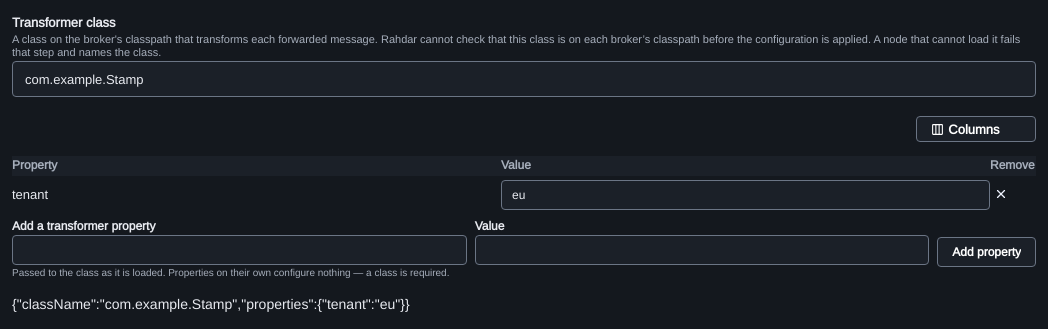
TransformerFields › removes a property, and draws no table when there are none
What coordinates should you click on to do the following:
click the button named "Remove transformer property tenant"
I would click on:
 (1001, 194)
Its box is x1=990 y1=183 x2=1012 y2=205.
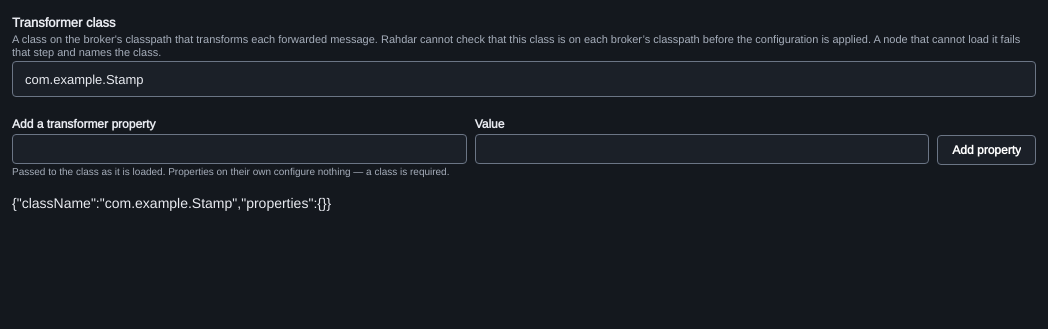
Result: the table is gone
